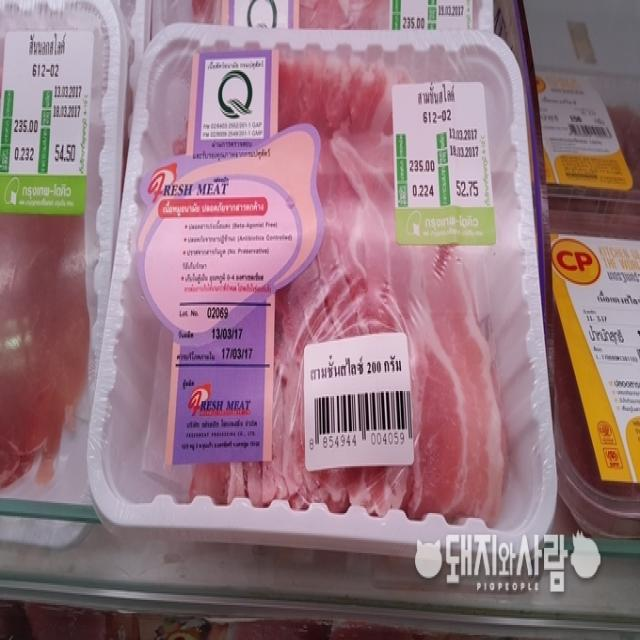pork: (126, 61, 516, 514)
